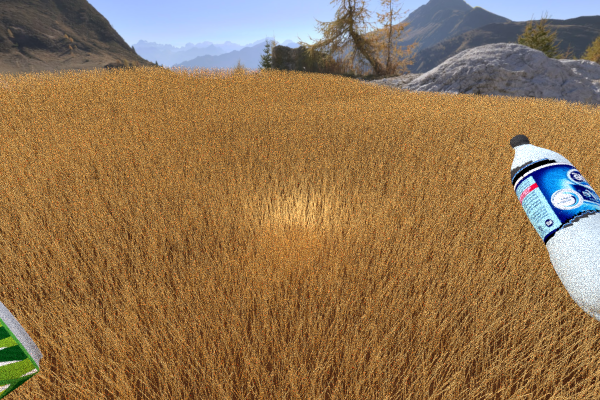bottle: (509, 135, 600, 328)
can: (22, 98, 82, 132), (127, 88, 173, 113)
